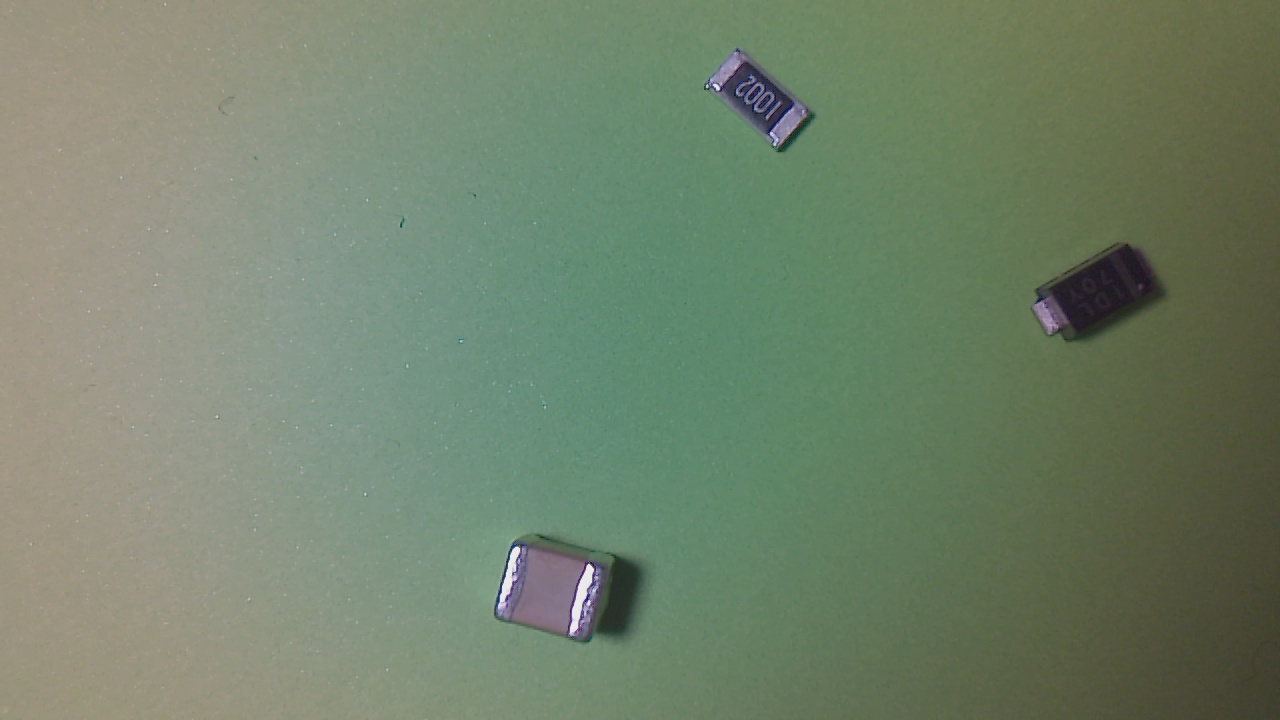Condensator: (499, 540, 613, 648)
Diode: (1035, 244, 1163, 348)
Resistor: (707, 51, 821, 157)
